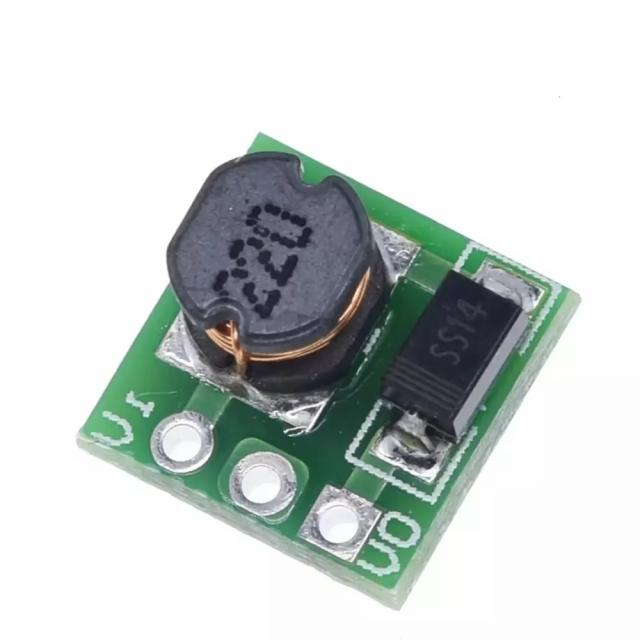diode -D1-: (362, 261, 546, 477)
inductor F1: (118, 121, 439, 431)
